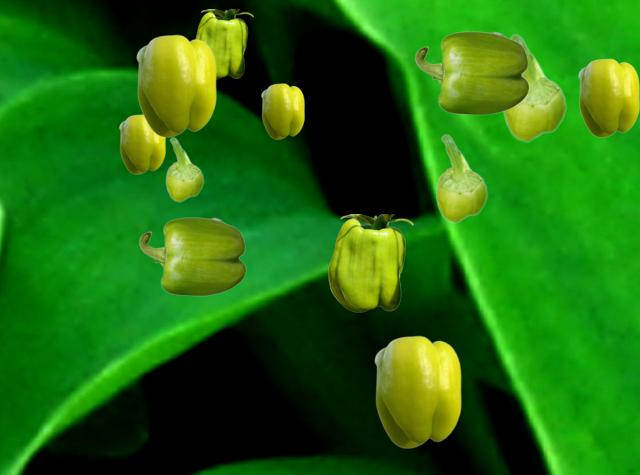bell_pepper: (374, 335, 460, 447), (415, 31, 528, 114), (139, 217, 245, 295), (328, 214, 412, 311), (136, 34, 215, 136), (502, 34, 566, 141), (578, 58, 638, 136), (435, 134, 487, 222), (195, 9, 252, 78), (119, 114, 164, 173), (165, 137, 203, 201), (261, 83, 303, 138)
